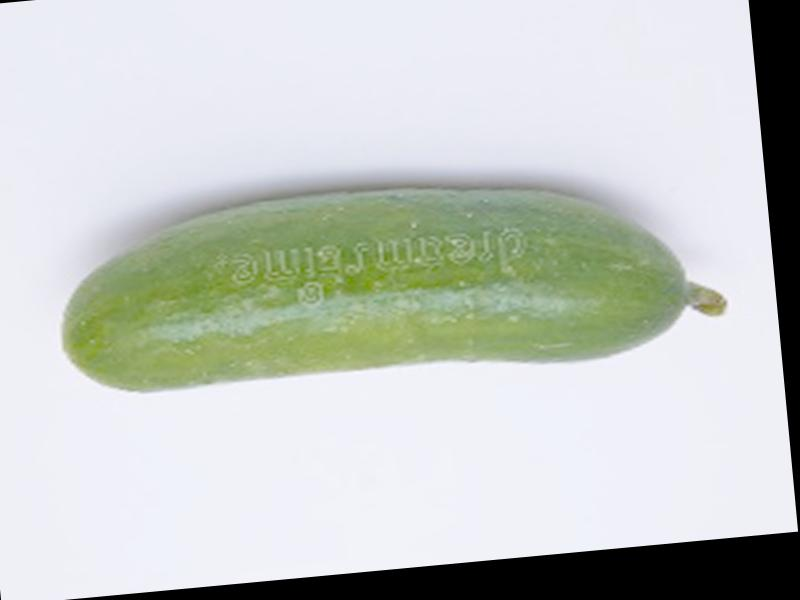Cucumber: (49, 156, 730, 408)
